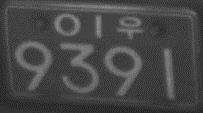0: (53, 11, 81, 37)
1: (153, 47, 186, 101), (87, 13, 110, 38)
3: (59, 41, 100, 94)
9: (13, 38, 54, 92), (103, 43, 143, 97)
우: (117, 14, 144, 40)
